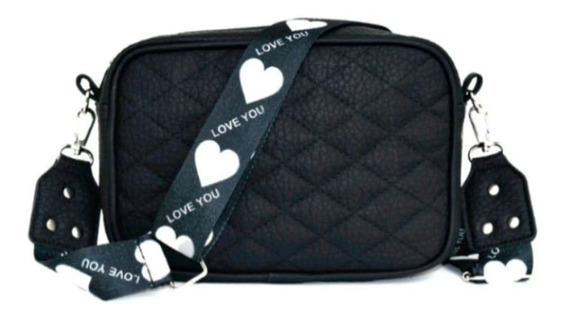cartera: (27, 17, 540, 306)
